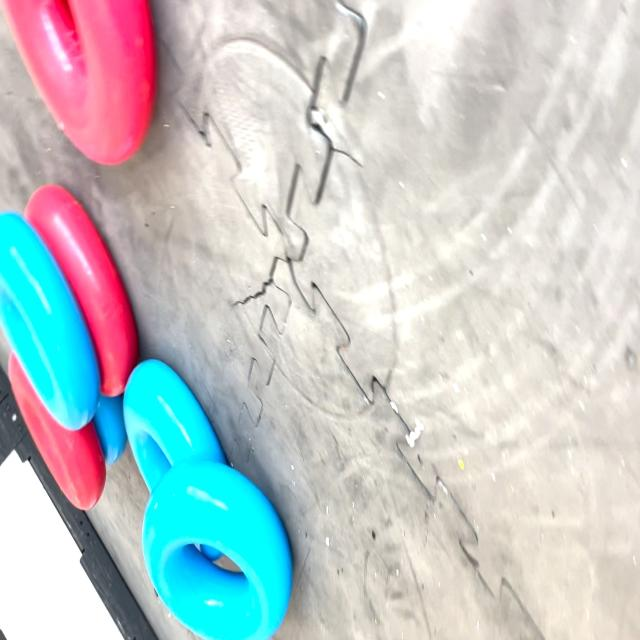Blue-Ring: (142, 460, 292, 638), (0, 211, 100, 429), (122, 360, 226, 491)
Red-Ring: (1, 0, 156, 164), (25, 184, 139, 396), (9, 353, 106, 510)
